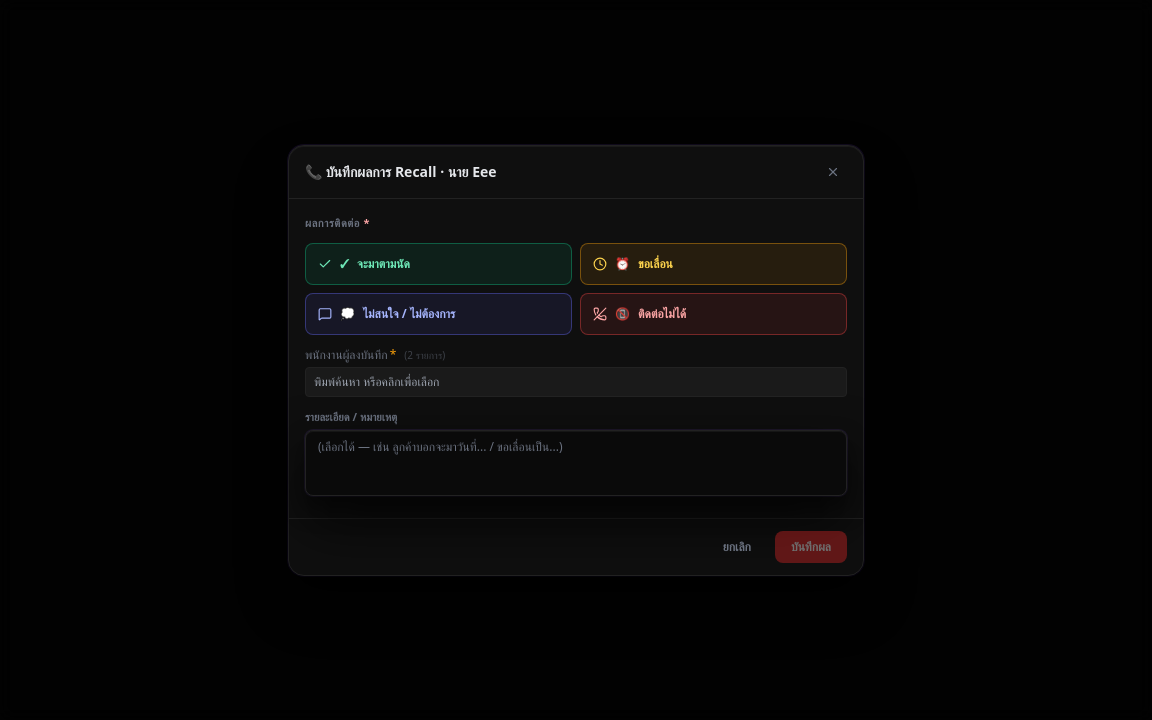
Test case: Phase 29 · O2 outcome selection › O2.3 save enabled only after outcome AND staff picked (Q2=B)
The image size is (1152, 720).
Step 1. Click the button with test id "recall-outcome-card-will-come" → coordinates (384, 264), box [305, 243, 572, 285]
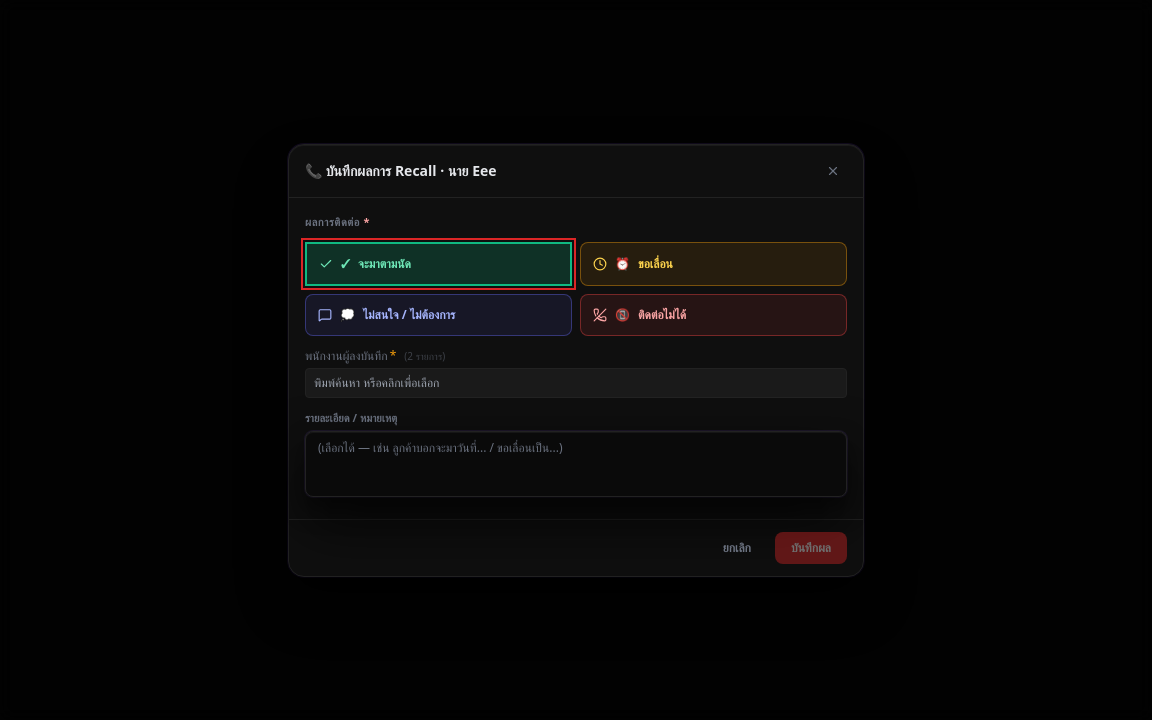
Expected: the button with test id "recall-outcome-save" is disabled, [775, 532, 847, 564]
Step 2. Click the field with placeholder "พิมพ์ค้นหา หรือคลิกเพื่อเลือก" → coordinates (576, 383), box [305, 368, 847, 398]
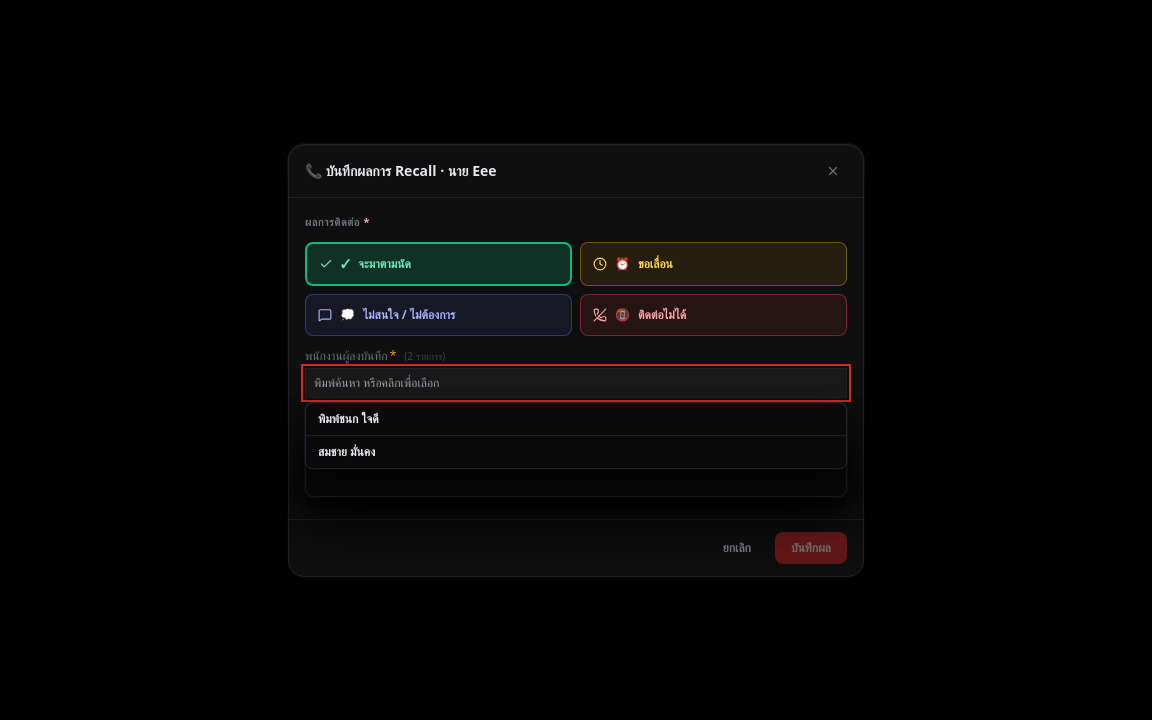
Step 3. Click the button "พิมพ์ชนก ใจดี" → coordinates (348, 418), box [306, 403, 846, 436]
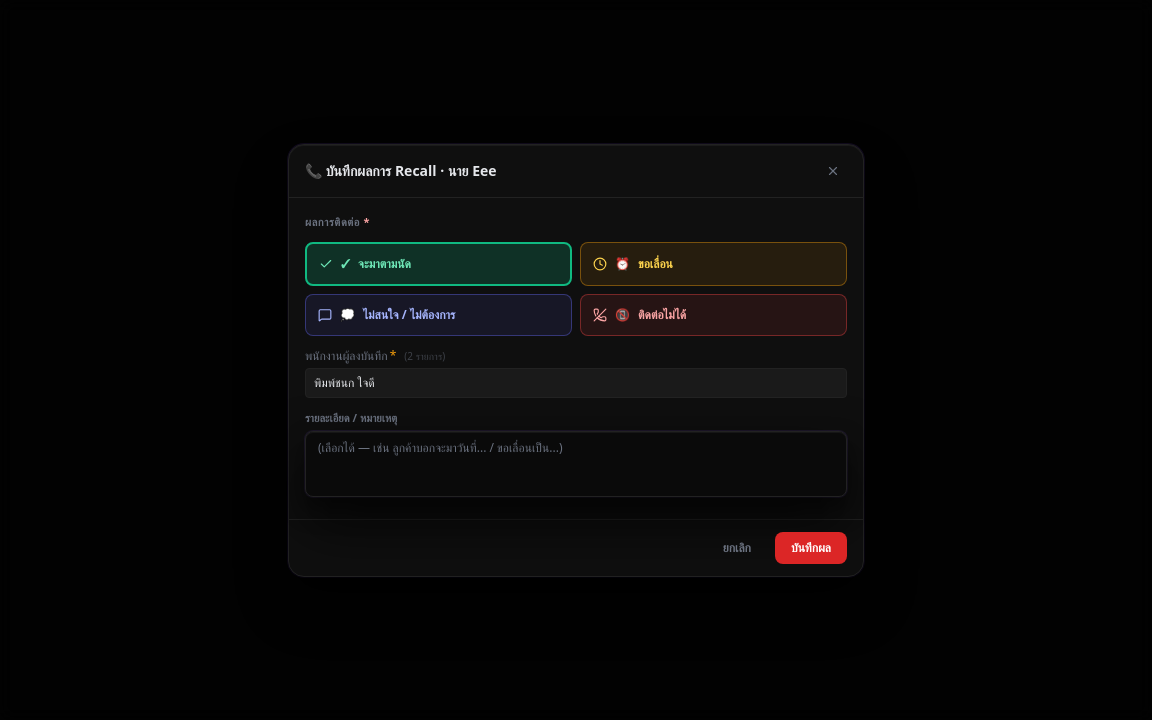
Now the button with test id "recall-outcome-save" is enabled, box [775, 532, 847, 564]
